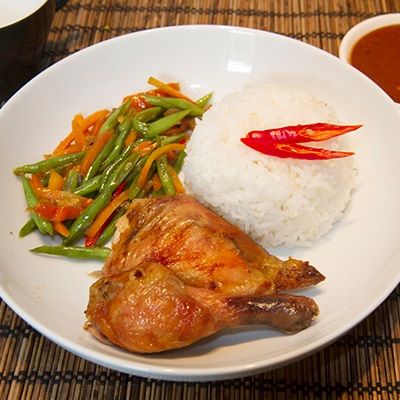buah_sayur_vitA: (70, 121, 170, 195)
daging: (123, 212, 224, 328)
makanan_berpati: (238, 165, 336, 222)
